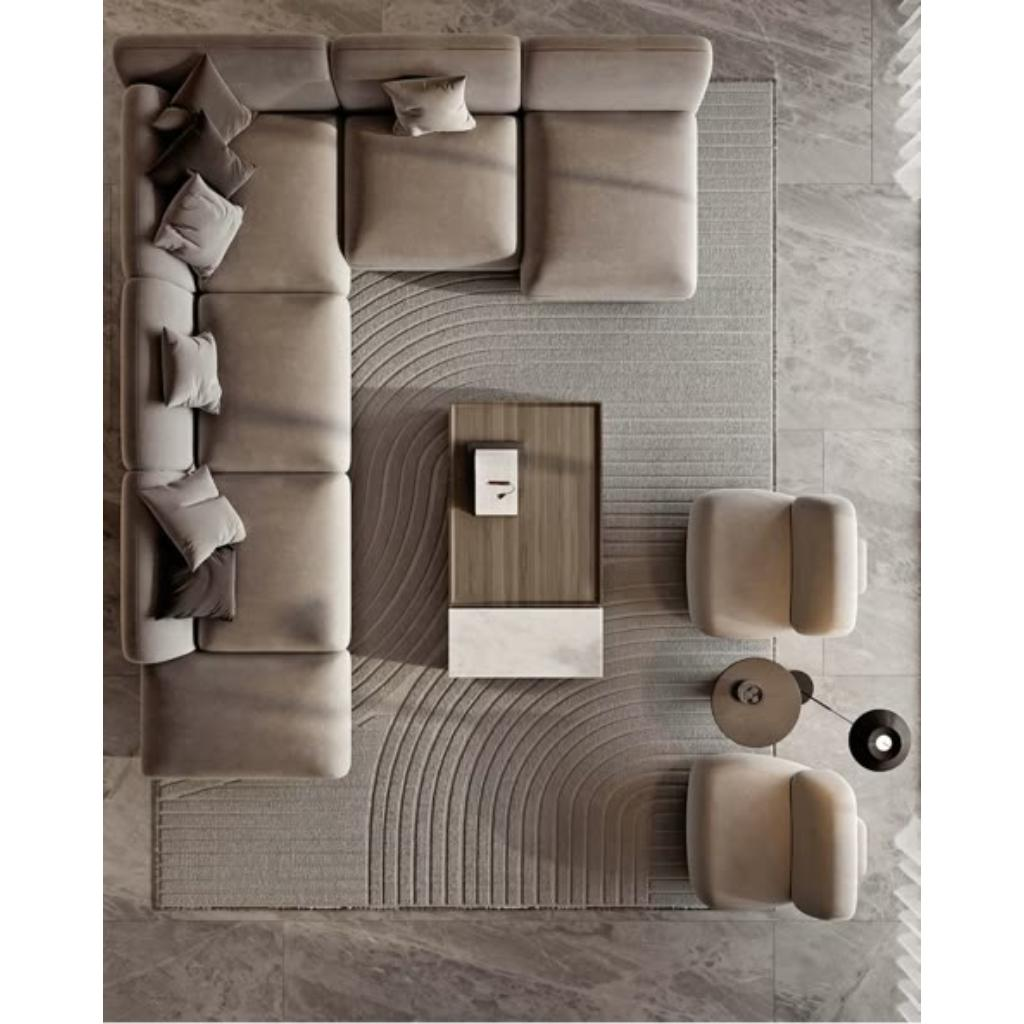chair: (688, 758, 860, 910), (686, 490, 858, 640)
coffee table: (452, 403, 604, 679)
floor lamp: (803, 664, 837, 706)
ottoman: (143, 660, 349, 778)
rug: (154, 80, 774, 914)
side table: (708, 660, 796, 746)
sofa: (116, 36, 712, 280), (118, 284, 354, 652)
